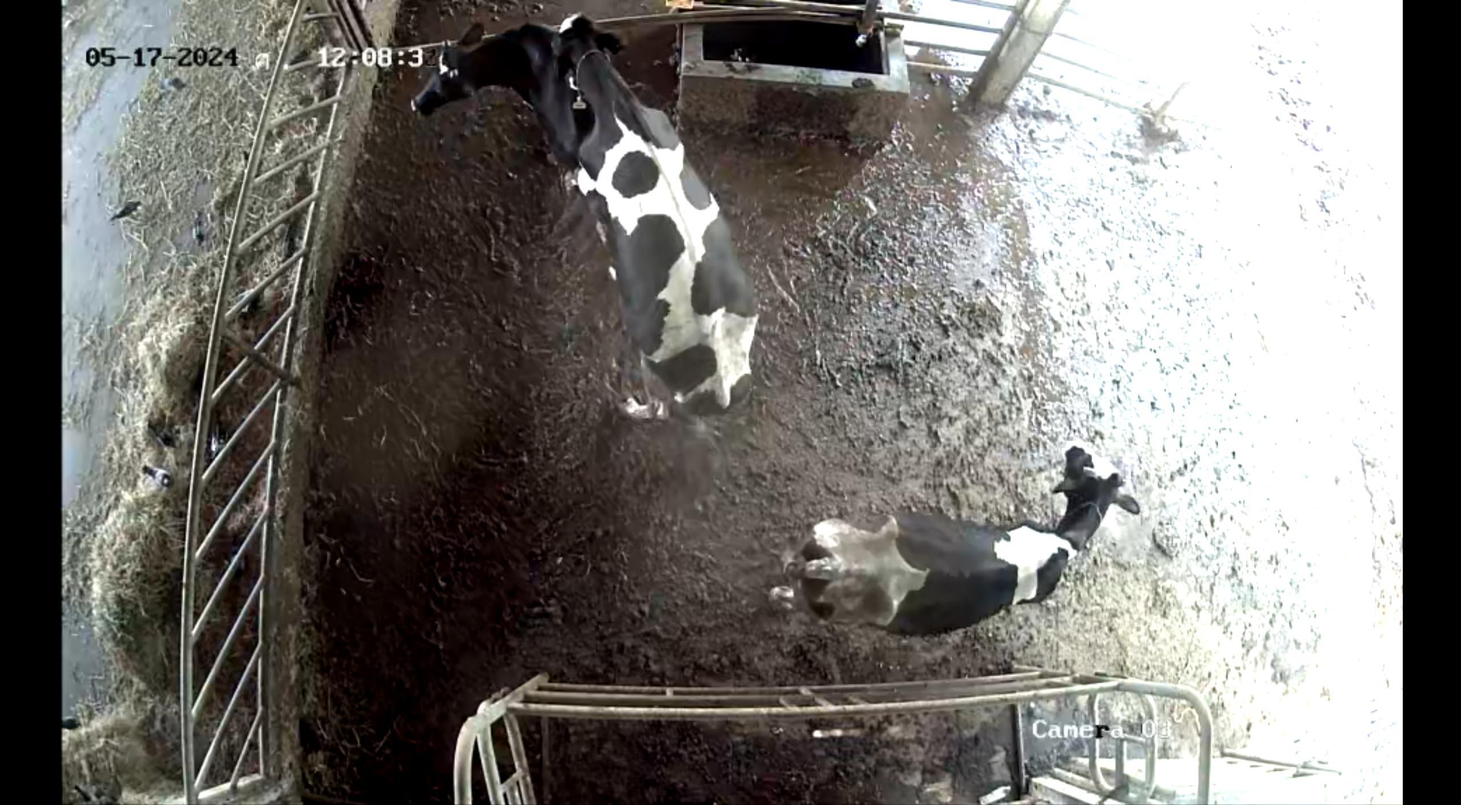ride: (546, 7, 773, 440)
stand: (734, 434, 1157, 662), (403, 15, 591, 188)
